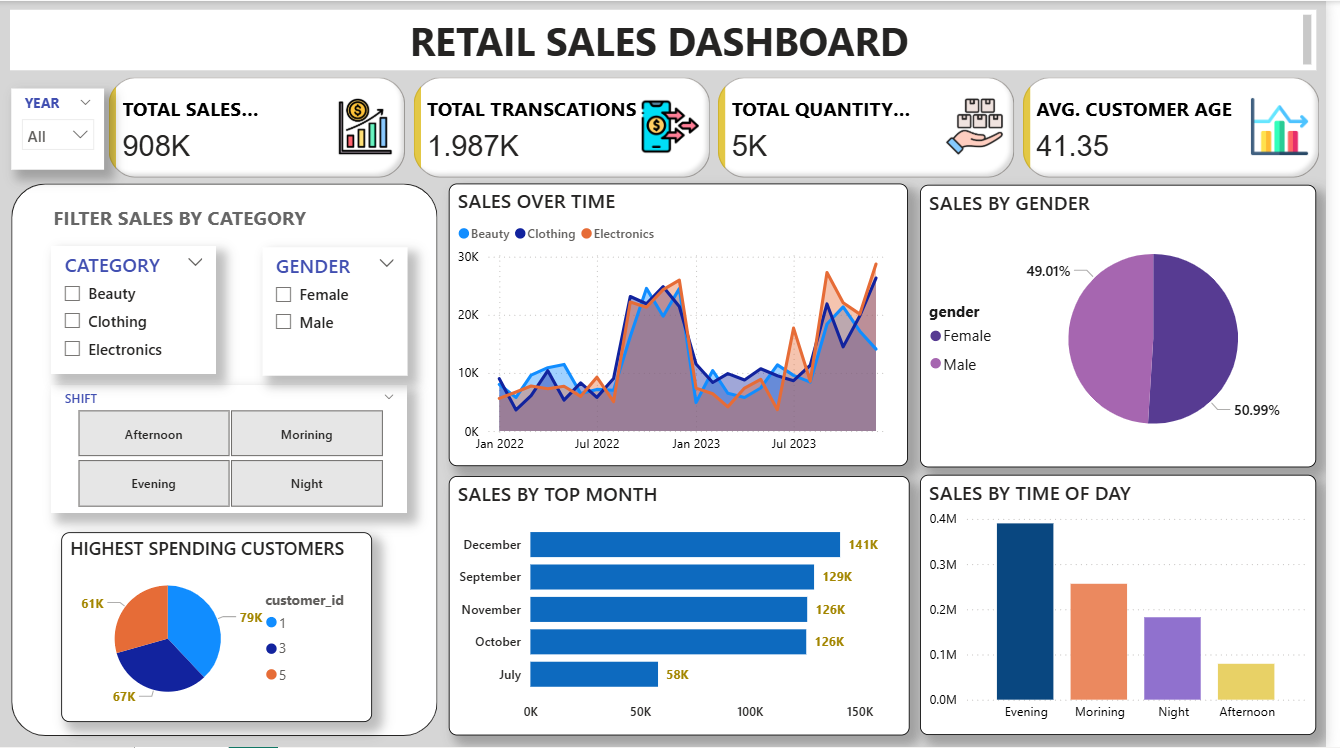

The dashboard page shown, as its layout file describes it:
{"tool":"powerbi","page":{"name":"Page 1","canvas":[1280,720],"ordinal":0},"visuals":[{"type":"textbox","box":[9.8,8.6,1260.7,58.7],"z":0},{"type":"shape","box":[10.3,175.6,411.5,533.3],"z":1000},{"type":"areaChart","title":"SALES OVER TIME","fields":{"Y":["Sum(SQL - Retail Sales Analysis.total_sale)"],"Category":["DATE.Date.Variation.Date Hierarchy.Year","DATE.Date.Variation.Date Hierarchy.Quarter","DATE.Date.Variation.Date Hierarchy.Month"],"Series":["SQL - Retail Sales Analysis.category"]},"box":[433.3,175.6,443.6,273.1],"z":2000},{"type":"barChart","title":"SALES BY TOP MONTH","fields":{"Category":["DATE.MONTH"],"Y":["Sum(SQL - Retail Sales Analysis.total_sale)"]},"box":[433.3,459,444.9,250],"z":3000},{"type":"pieChart","title":"SALES BY GENDER","fields":{"Y":["Sum(SQL - Retail Sales Analysis.total_sale)"],"Category":["SQL - Retail Sales Analysis.gender"]},"box":[888.5,176.9,382.1,273.1],"z":4000},{"type":"columnChart","title":"SALES BY TIME OF DAY","fields":{"Y":["Sum(SQL - Retail Sales Analysis.total_sale)"],"Category":["SQL - Retail Sales Analysis.TIME OF DAY"]},"box":[888.5,457.7,382.1,251.3],"z":5000},{"type":"cardVisual","fields":{"Data":["Sum(SQL - Retail Sales Analysis.total_sale)","CountNonNull(SQL - Retail Sales Analysis.customer_id)","Sum(SQL - Retail Sales Analysis.quantiy)","Avg(SQL - Retail Sales Analysis.age)"]},"box":[100,69.2,1179.5,107.7],"z":6000},{"type":"slicer","fields":{"Values":["SQL - Retail Sales Analysis.category"]},"box":[50,235.9,159,124.4],"z":7000},{"type":"slicer","fields":{"Values":["SQL - Retail Sales Analysis.gender"]},"box":[253.8,237.2,139.7,124.4],"z":8000},{"type":"slicer","fields":{"Values":["SQL - Retail Sales Analysis.TIME OF DAY"]},"box":[50,370.5,343.6,124.4],"z":9000},{"type":"textbox","box":[33.3,192.3,274.4,43.6],"z":10000},{"type":"slicer","fields":{"Values":["DATE.YEAR"]},"box":[10.3,84.6,89.7,78.2],"z":11000},{"type":"pieChart","title":"HIGHEST SPENDING CUSTOMERS","fields":{"Category":["SQL - Retail Sales Analysis.customer_id"],"Y":["Sum(SQL - Retail Sales Analysis.transactions_id)"]},"box":[59,512.8,300,183.3],"z":13000}]}

Visuals, with their boxes in screenshot pixels (x1, y1, x2, y2), scaled from the page's 1280x720 canvas onto the 1340x748 screenshot:
textbox: crop(10, 9, 1330, 70)
shape: crop(11, 182, 442, 736)
"SALES OVER TIME" areaChart: crop(454, 182, 918, 466)
"SALES BY TOP MONTH" barChart: crop(454, 477, 919, 737)
"SALES BY GENDER" pieChart: crop(930, 184, 1330, 468)
"SALES BY TIME OF DAY" columnChart: crop(930, 475, 1330, 737)
cardVisual - Sum(SQL - Retail Sales Analysis.total_sale) x CountNonNull(SQL - Retail Sales Analysis.customer_id): crop(105, 72, 1339, 184)
slicer - SQL - Retail Sales Analysis.category: crop(52, 245, 219, 374)
slicer - SQL - Retail Sales Analysis.gender: crop(266, 246, 412, 376)
slicer - SQL - Retail Sales Analysis.TIME OF DAY: crop(52, 385, 412, 514)
textbox: crop(35, 200, 322, 245)
slicer - DATE.YEAR: crop(11, 88, 105, 169)
"HIGHEST SPENDING CUSTOMERS" pieChart: crop(62, 533, 376, 723)
